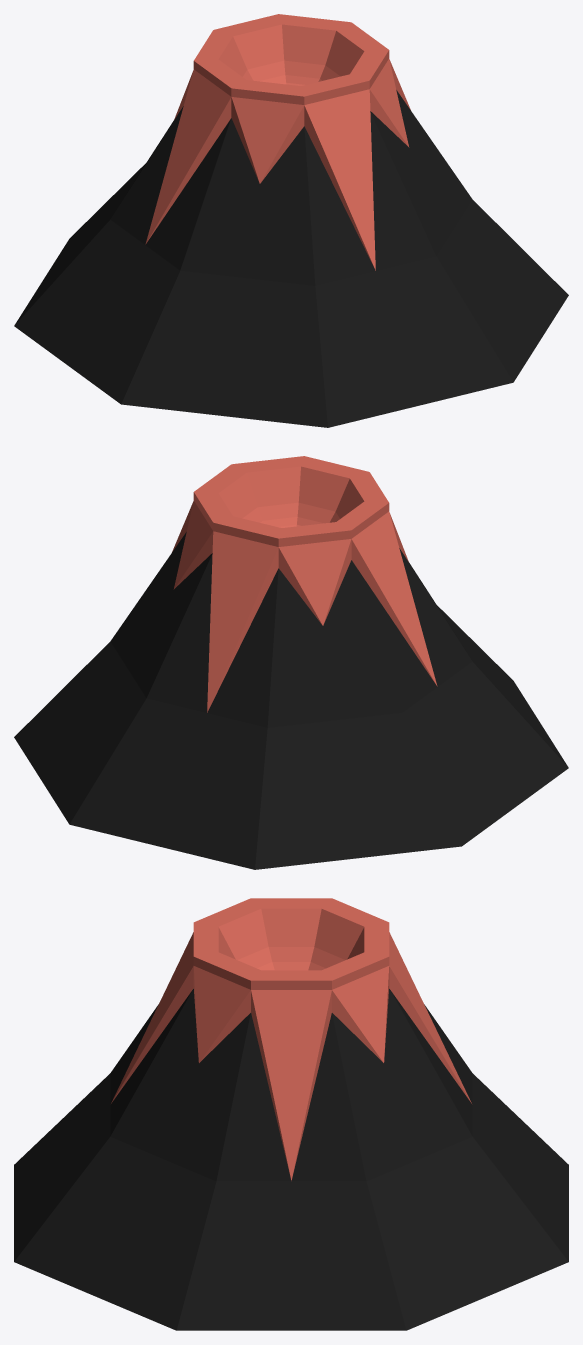
The model's file is Volcano.dae.
3 views of the same model, one above another, from view 1: azimuth 30°, elevation 25°; view 2: azimuth 150°, elevation 25°; view 3: azimuth 270°, elevation 25° (orthographic). The views are drawn at different scales.
Visible parts, largest first — view 1: SketchUp (×3); view 2: SketchUp (×3); view 3: SketchUp (×3).
Boxes of the visible parts, x1,y1,x2,y2 form: SketchUp (×3): (14,14,568,427); SketchUp (×3): (14,456,568,869); SketchUp (×3): (14,898,568,1330).
Bounding box in the file's own units: 165 × 165 × 89.97.
